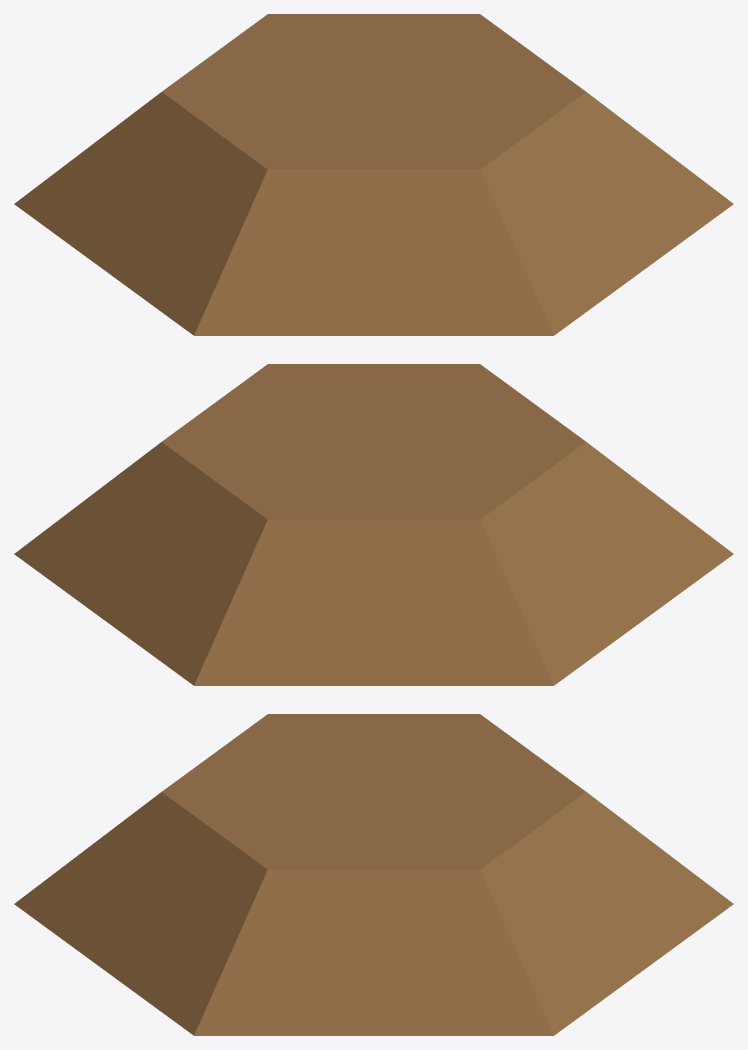
The model's file is RPG_Tiles_Hex_Mound_Small_02.FBX.
3 renders of one model, top to bottom at view 1: azimuth 30°, elevation 25°; view 2: azimuth 150°, elevation 25°; view 3: azimuth 270°, elevation 25°, orthographic.
Parts seen in each view (by area): view 1: RPG_Tiles_Hex_Mound_Small_02; view 2: RPG_Tiles_Hex_Mound_Small_02; view 3: RPG_Tiles_Hex_Mound_Small_02.
Part boxes in pixels (bbox=[...]): RPG_Tiles_Hex_Mound_Small_02: bbox=[14, 14, 733, 335]; RPG_Tiles_Hex_Mound_Small_02: bbox=[14, 364, 733, 685]; RPG_Tiles_Hex_Mound_Small_02: bbox=[14, 714, 733, 1035].
Size of the model in its own units: 836 by 166 by 966.
